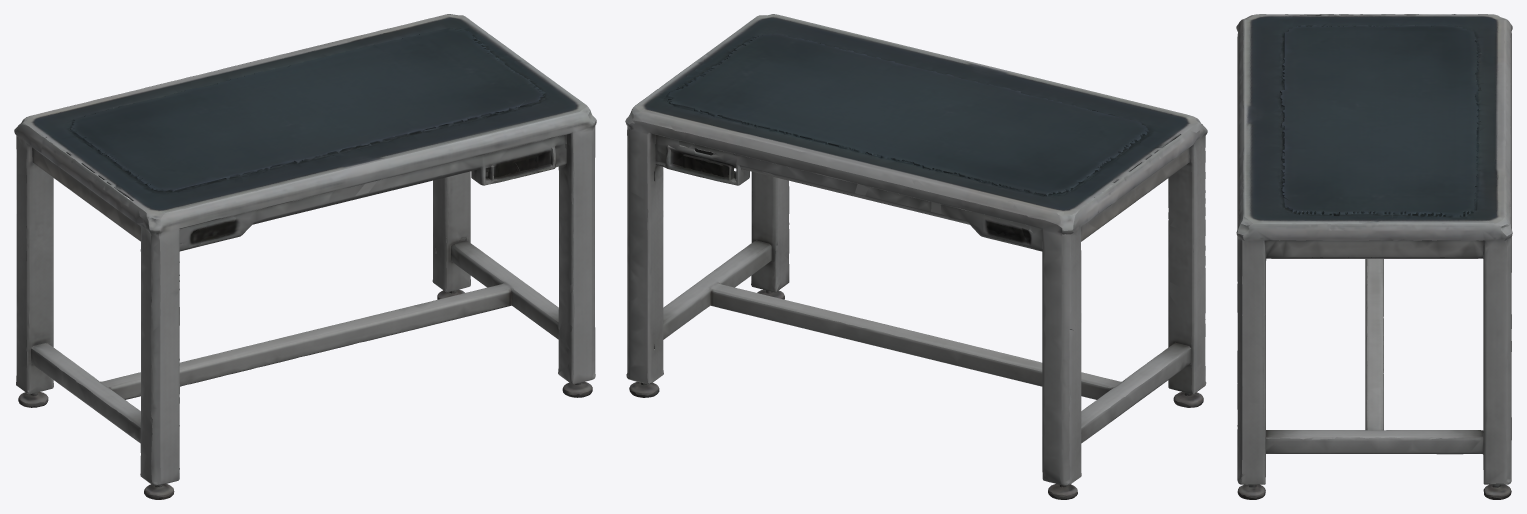
File: original.glb
The picture shows the model from 3 angles, left to right: view 1: azimuth 30°, elevation 25°; view 2: azimuth 150°, elevation 25°; view 3: azimuth 270°, elevation 25°; orthographic projection. The views are drawn at different scales.
Parts seen in each view (by area): view 1: world; view 2: world; view 3: world.
Part boxes in pixels (x1,y1,x2,y2): world: (14,14,596,499); world: (625,14,1207,499); world: (1236,14,1512,499).
Size of the model in its own units: 1.5 by 0.9129 by 0.8233.
1 material, 1 textured.
